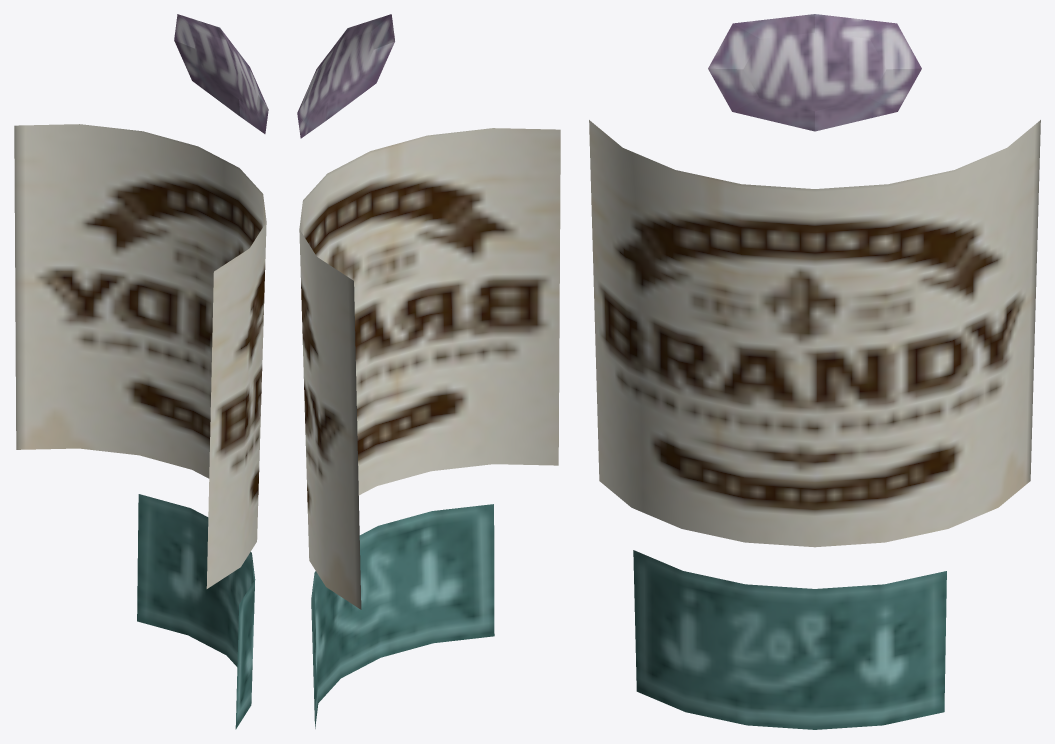
File: Mesh_Bottle01Label01.fbx
The picture shows the model from 3 angles, left to right: view 1: azimuth 30°, elevation 25°; view 2: azimuth 150°, elevation 25°; view 3: azimuth 270°, elevation 25°; orthographic projection. The views are drawn at different scales.
Parts seen in each view (by area): view 1: Label03Bottle01; view 2: Label03Bottle01; view 3: Label03Bottle01.
Boxes of the visible parts, box(x1,y1,x2,y2) form: Label03Bottle01: box(14, 14, 268, 729); Label03Bottle01: box(297, 14, 560, 728); Label03Bottle01: box(589, 14, 1040, 729).
Bounding box in the file's own units: 4.17 × 19.49 × 11.2.
